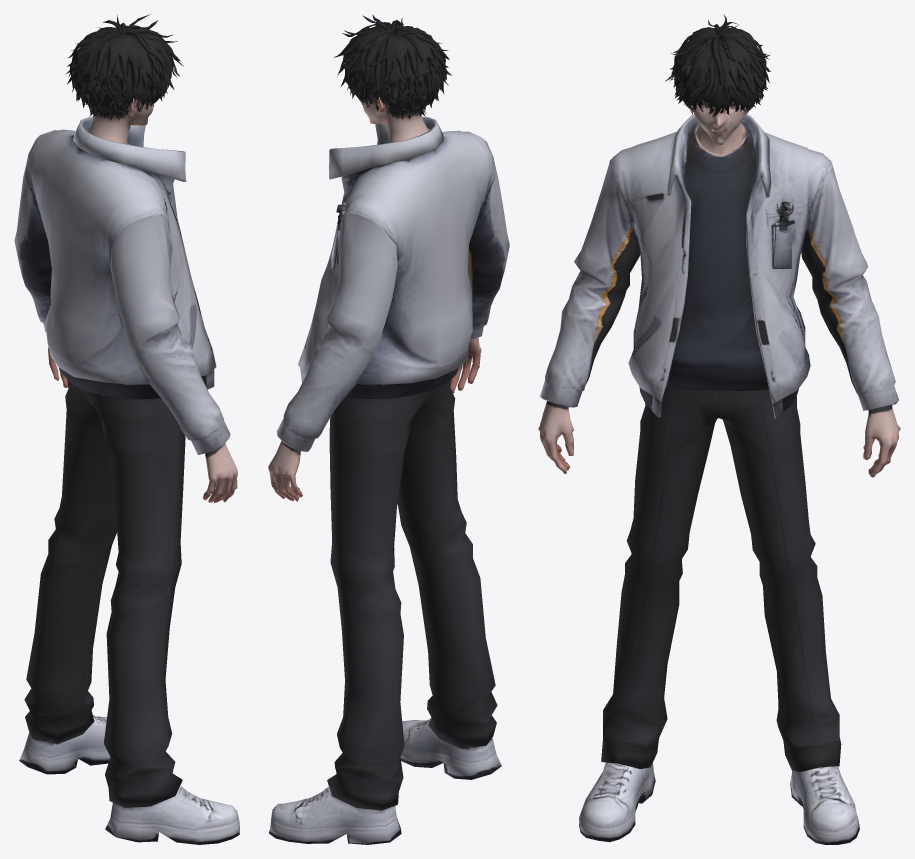
Rendered from lin-che-static.glb.
The picture shows the model from 3 angles, left to right: view 1: azimuth 30°, elevation 25°; view 2: azimuth 150°, elevation 25°; view 3: azimuth 270°, elevation 25°; orthographic projection.
Parts seen in each view (by area): view 1: tripo_node_a12bc809-5d15-4685-9318-e131a5a1b15a; view 2: tripo_node_a12bc809-5d15-4685-9318-e131a5a1b15a; view 3: tripo_node_a12bc809-5d15-4685-9318-e131a5a1b15a.
Boxes of the visible parts, box(x1,y1,x2,y2) form: tripo_node_a12bc809-5d15-4685-9318-e131a5a1b15a: box(14, 14, 239, 844); tripo_node_a12bc809-5d15-4685-9318-e131a5a1b15a: box(268, 14, 509, 844); tripo_node_a12bc809-5d15-4685-9318-e131a5a1b15a: box(538, 15, 900, 844).
Size of the model in its own units: 0.3367 by 1.85 by 0.7711.
1 material, 1 textured.
